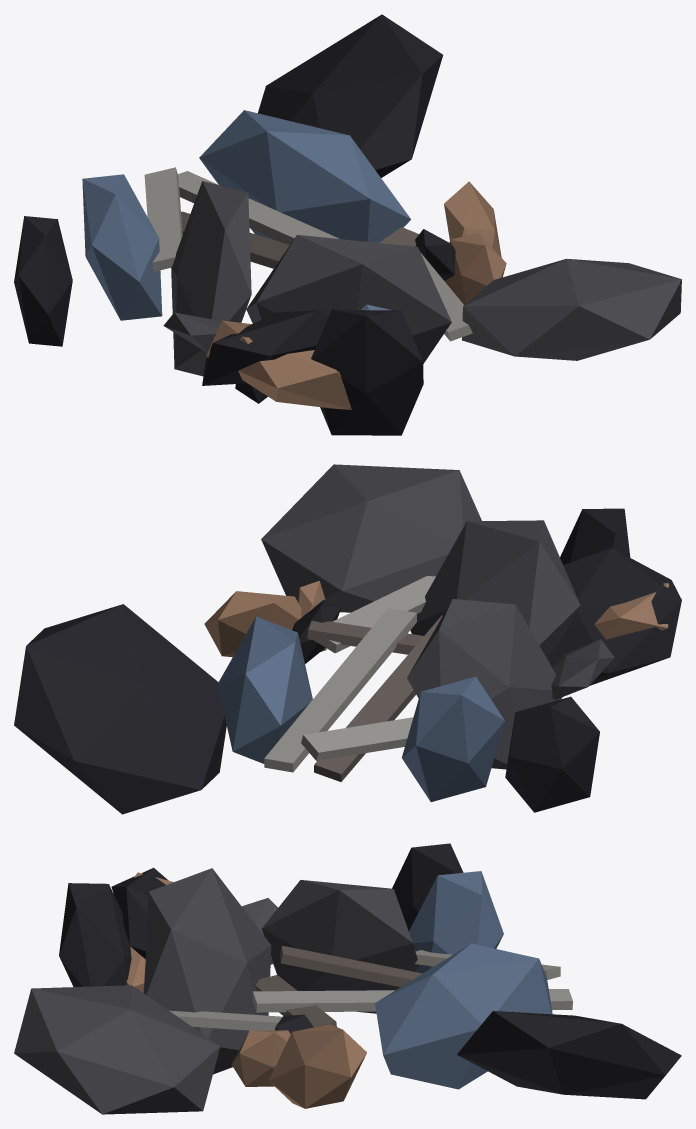
Rendered from v2_trash.glb.
3 views of the same model, one above another, from view 1: azimuth 30°, elevation 25°; view 2: azimuth 150°, elevation 25°; view 3: azimuth 270°, elevation 25° (orthographic). The views are drawn at different scales.
Parts seen in each view (by area): view 1: v2_trash; view 2: v2_trash; view 3: v2_trash.
Boxes of the visible parts, left/top/right/bottom form: v2_trash: left=14, top=14, right=681, bottom=435; v2_trash: left=14, top=464, right=681, bottom=814; v2_trash: left=14, top=843, right=681, bottom=1114.
Bounding box in the file's own units: 2.69 × 0.9361 × 3.41.
